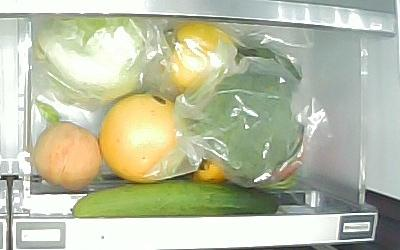broccoli_vinyl: (190, 74, 303, 186)
cucumber: (70, 179, 284, 217)
grapefruit: (100, 93, 188, 182)
lettuce_vinyl: (38, 17, 157, 99)
paprika_vinyl: (164, 22, 240, 92), (235, 47, 302, 91)
peach: (31, 120, 102, 194)
